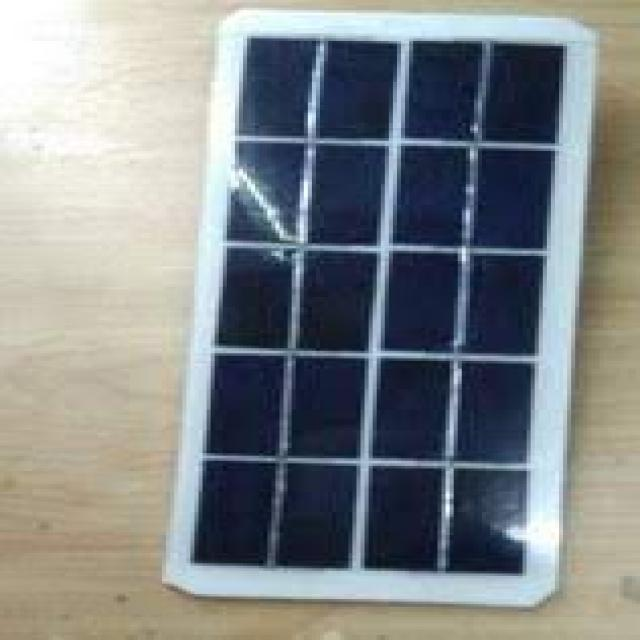faulty: (215, 27, 552, 602)
